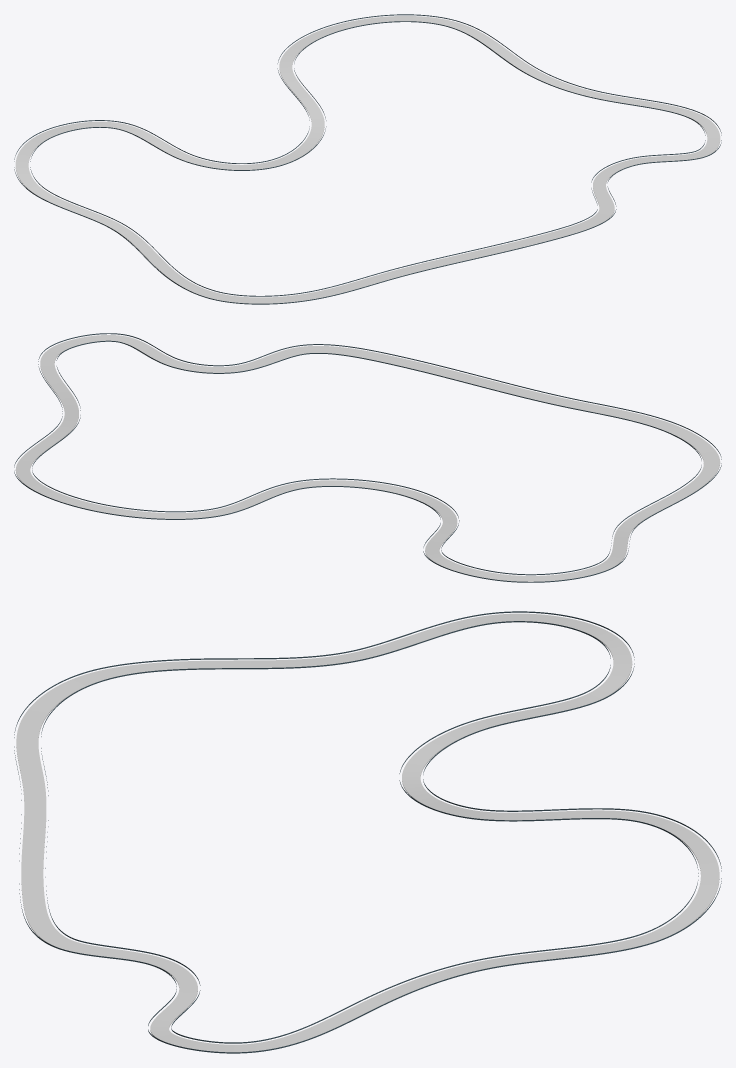
Rendered from Biggas_City_039_v02_Collision.glb.
3 renders of one model, top to bottom at view 1: azimuth 30°, elevation 25°; view 2: azimuth 150°, elevation 25°; view 3: azimuth 270°, elevation 25°, orthographic. The views are drawn at different scales.
Visible parts, largest first — view 1: COL_ROAD, COL_BARRIER_RIGHT, COL_BARRIER_LEFT; view 2: COL_ROAD, COL_BARRIER_RIGHT, COL_BARRIER_LEFT; view 3: COL_ROAD, COL_BARRIER_RIGHT, COL_BARRIER_LEFT.
Boxes of the visible parts, x1=… form: COL_ROAD: x1=15, y1=16, x2=720, y2=303; COL_BARRIER_RIGHT: x1=14, y1=14, x2=721, y2=304; COL_BARRIER_LEFT: x1=30, y1=21, x2=705, y2=296; COL_ROAD: x1=15, y1=335, x2=720, y2=581; COL_BARRIER_RIGHT: x1=14, y1=333, x2=721, y2=582; COL_BARRIER_LEFT: x1=32, y1=340, x2=701, y2=575; COL_ROAD: x1=16, y1=613, x2=719, y2=1052; COL_BARRIER_RIGHT: x1=14, y1=611, x2=721, y2=1053; COL_BARRIER_LEFT: x1=41, y1=621, x2=698, y2=1043.
Size of the model in its own units: 1166 by 61.58 by 830.
